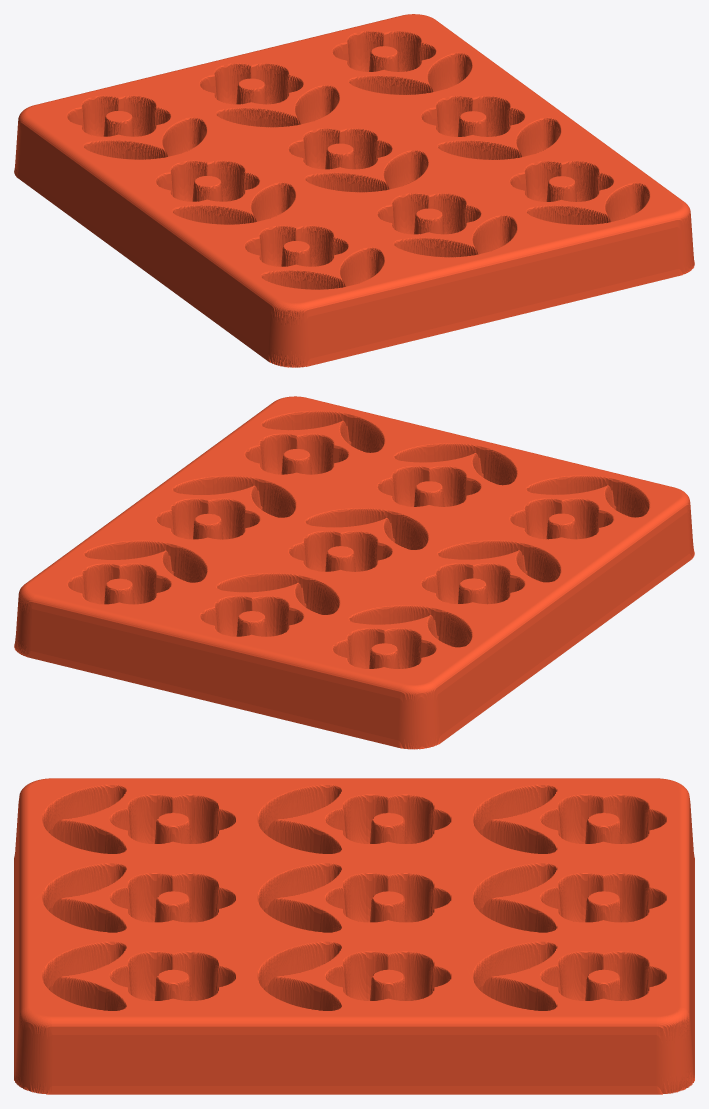
File: mold.glb
3 views of the same model, one above another, from view 1: azimuth 30°, elevation 25°; view 2: azimuth 150°, elevation 25°; view 3: azimuth 270°, elevation 25° (orthographic). The views are drawn at different scales.
Parts seen in each view (by area): view 1: geometry_0; view 2: geometry_0; view 3: geometry_0.
Boxes of the visible parts, left/top/right/bottom form: geometry_0: left=14, top=14, right=694, bottom=367; geometry_0: left=14, top=396, right=694, bottom=749; geometry_0: left=14, top=778, right=694, bottom=1094.
Size of the model in its own units: 0.1387 by 0.0185 by 0.1595.
